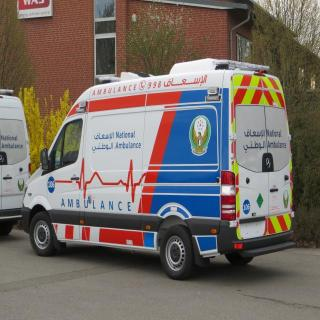Ambulance: (15, 37, 306, 286)
